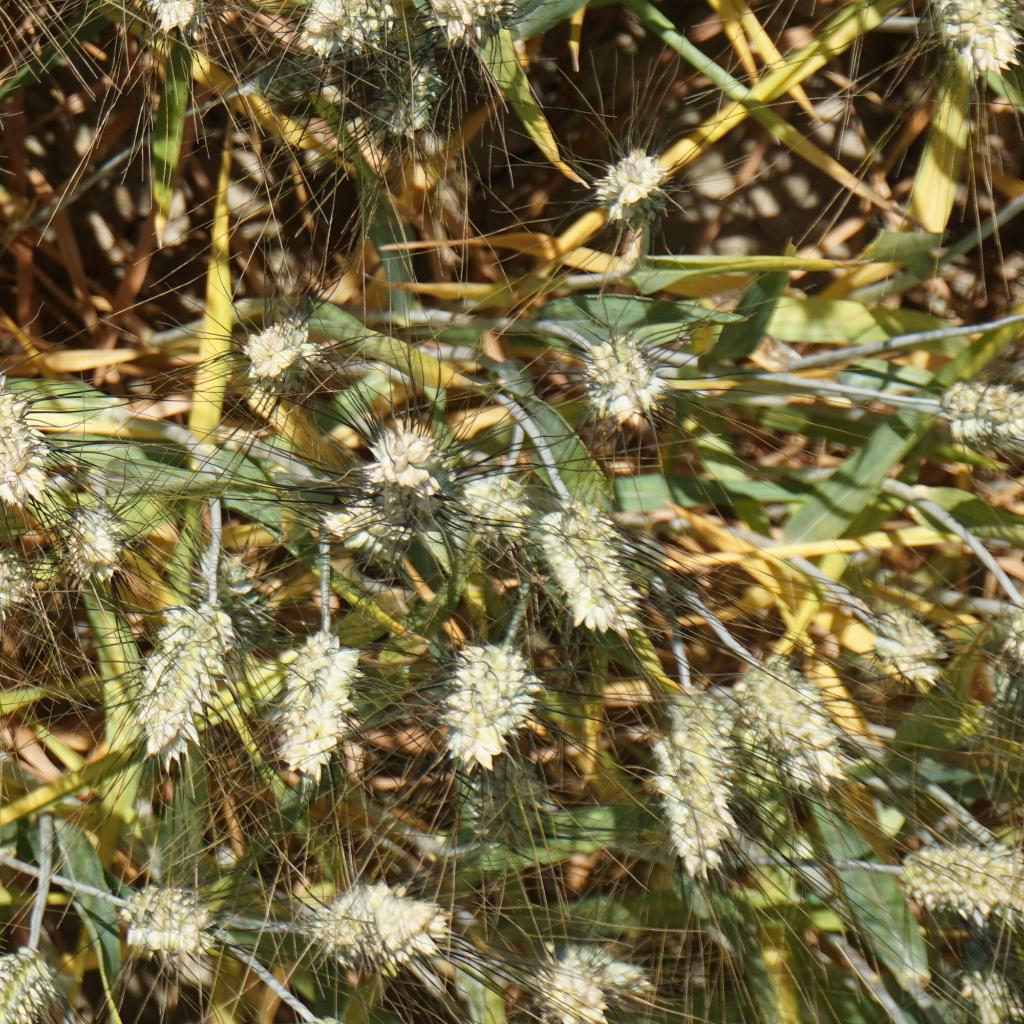0-0: (728, 640, 846, 789), (541, 488, 651, 632), (121, 868, 238, 994), (303, 876, 433, 984), (655, 683, 726, 878), (269, 608, 350, 772), (149, 588, 230, 744), (439, 626, 529, 756), (893, 830, 1024, 919), (353, 23, 453, 138), (710, 683, 785, 833), (356, 397, 444, 500), (582, 318, 667, 421), (588, 135, 679, 228), (943, 366, 1024, 466), (917, 0, 1024, 74), (858, 600, 943, 693), (977, 579, 1024, 744), (531, 941, 623, 1024), (61, 499, 140, 595), (0, 366, 47, 502), (204, 533, 269, 630), (442, 470, 523, 545), (326, 482, 399, 561), (0, 935, 60, 1024), (303, 0, 386, 62), (247, 47, 327, 106), (425, 0, 521, 47), (117, 0, 218, 43), (244, 309, 305, 372), (0, 525, 15, 608)
